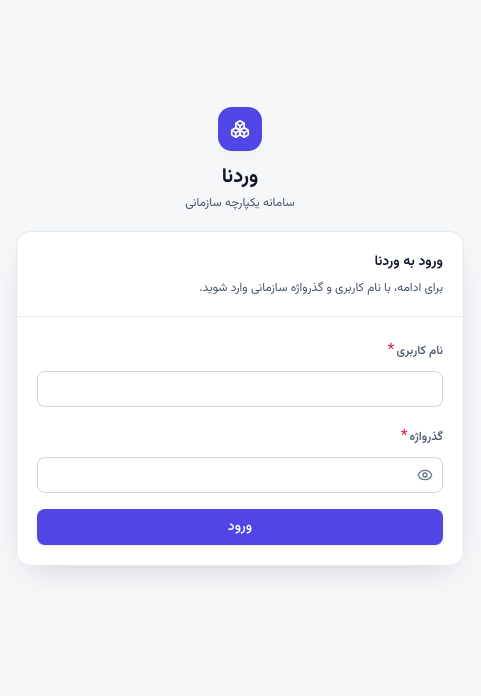
Test: Forced first-login password change flow › redirects a newly logged-in user with mustChangePassword=true to /change-password and blocks normal app queries until changed
This screenshot has width=481, height=696.
Type "مدیر" into the field labelled "نام کاربری".
click(240, 388); type("مدیر")  # box [37,370,443,406]
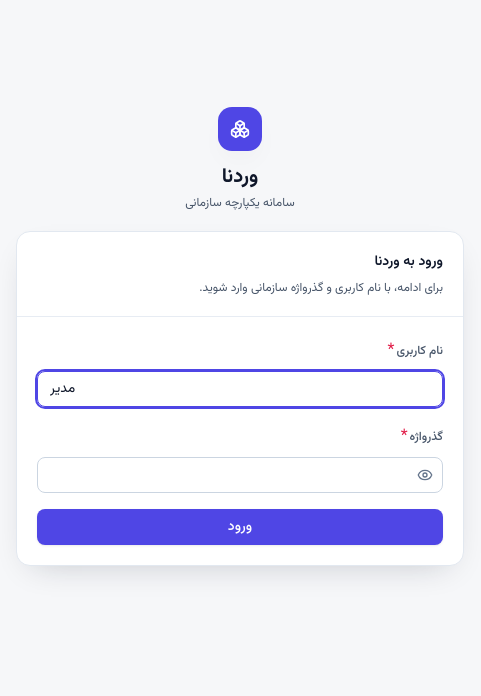
Type "initial-bootstrap-secret" into the password field labelled "گذرواژه".
click(240, 474); type("initial-bootstrap-secret")  # box [37,456,443,492]
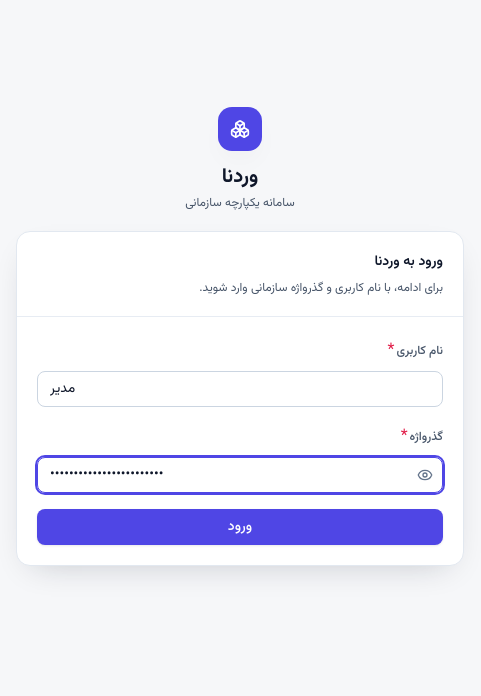
Click the button "ورود".
click(240, 526)  # box [37,508,443,544]
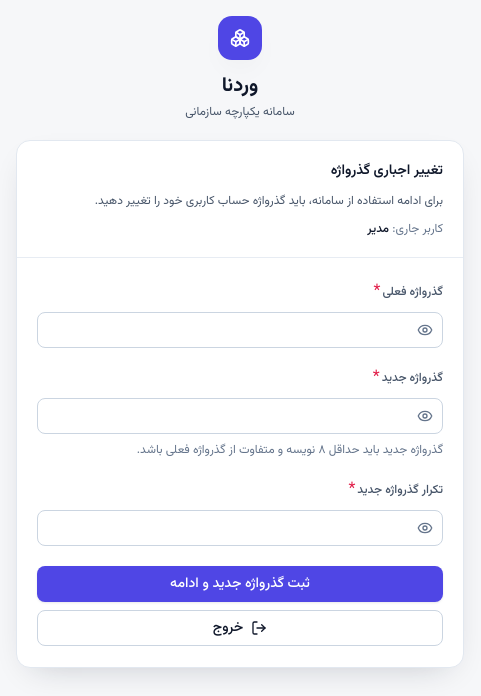
Check: the heading "تغییر اجباری گذرواژه" is shown, box [331,160,443,182]
Check: the text "مدیر" is shown, box [367,220,389,238]
